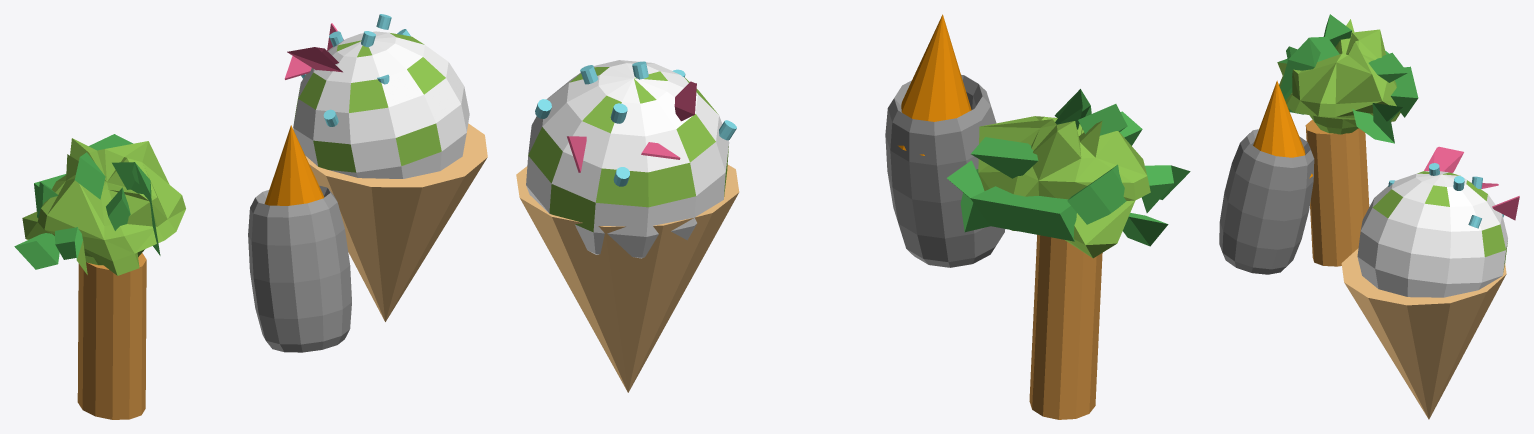
The picture shows the model from 3 angles, left to right: view 1: azimuth 30°, elevation 25°; view 2: azimuth 150°, elevation 25°; view 3: azimuth 270°, elevation 25°; orthographic projection. The views are drawn at different scales.
Visible parts, largest first — view 1: mesh_2124157391, mesh_390123128, mesh_893342068, mesh_154970355, mesh_1689330657, mesh_582639396, group_1453008360, group_1500462099, group_2118852489, group_560267181, group_461008662, group_1768642919; view 2: mesh_2124157391, mesh_893342068, mesh_390123128, mesh_1689330657, mesh_154970355, mesh_582639396, group_1649863183, group_1340670386, group_454375659, group_1717404630, group_2118852489, group_1453008360 (+3 smaller); view 3: mesh_2124157391, mesh_893342068, mesh_390123128, mesh_1689330657, mesh_154970355, mesh_582639396, group_1500462099, group_1717404630, group_1649863183, group_454375659, group_461008662, group_560267181 (+1 smaller).
Boxes of the visible parts, left/top/right/bottom form: mesh_2124157391: left=293, top=31, right=469, bottom=178; mesh_390123128: left=248, top=185, right=351, bottom=352; mesh_893342068: left=305, top=123, right=487, bottom=321; mesh_154970355: left=22, top=138, right=185, bottom=275; mesh_1689330657: left=77, top=253, right=146, bottom=419; mesh_582639396: left=264, top=125, right=324, bottom=205; group_1453008360: left=14, top=233, right=59, bottom=269; group_1500462099: left=112, top=162, right=160, bottom=255; group_2118852489: left=55, top=227, right=87, bottom=274; group_560267181: left=74, top=152, right=105, bottom=199; group_461008662: left=287, top=47, right=342, bottom=72; group_1768642919: left=106, top=187, right=130, bottom=230; mesh_2124157391: left=526, top=60, right=729, bottom=258; mesh_893342068: left=516, top=164, right=739, bottom=392; mesh_390123128: left=885, top=74, right=1005, bottom=267; mesh_1689330657: left=1029, top=234, right=1102, bottom=419; mesh_154970355: left=978, top=116, right=1150, bottom=258; mesh_582639396: left=898, top=14, right=971, bottom=155; group_1649863183: left=970, top=186, right=1076, bottom=241; group_1340670386: left=1067, top=164, right=1126, bottom=224; group_454375659: left=971, top=137, right=1038, bottom=178; group_1717404630: left=947, top=160, right=990, bottom=232; group_2118852489: left=1141, top=165, right=1190, bottom=212; group_1453008360: left=1123, top=213, right=1168, bottom=246; mesh_2124157391: left=1357, top=171, right=1507, bottom=297; mesh_893342068: left=1341, top=248, right=1506, bottom=419; mesh_390123128: left=1219, top=129, right=1314, bottom=274; mesh_1689330657: left=1305, top=119, right=1369, bottom=266; mesh_154970355: left=1279, top=19, right=1400, bottom=134; mesh_582639396: left=1253, top=80, right=1312, bottom=178; group_1500462099: left=1280, top=37, right=1339, bottom=114; group_1717404630: left=1352, top=103, right=1402, bottom=143; group_1649863183: left=1391, top=66, right=1418, bottom=117; group_454375659: left=1368, top=52, right=1407, bottom=82; group_461008662: left=1424, top=146, right=1463, bottom=172; group_560267181: left=1323, top=14, right=1351, bottom=46.
Size of the model in its own units: 139 by 80.96 by 83.77.
